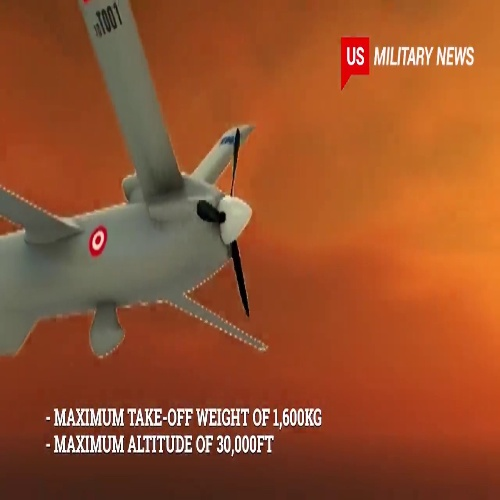uav663: (2, 2, 268, 364)
